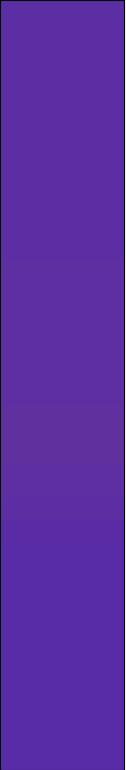safe: (19, 6, 110, 753)
